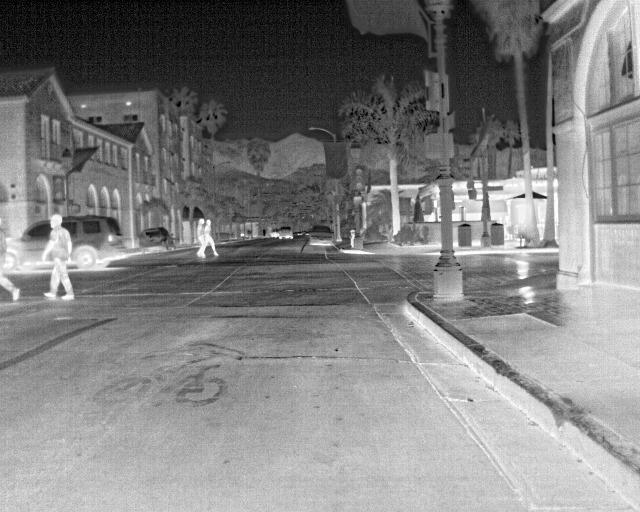bicycle: (64, 217, 125, 272), (0, 217, 49, 270), (137, 226, 175, 254), (308, 222, 337, 249), (280, 226, 295, 243)
empty: (40, 214, 77, 301), (198, 219, 220, 261), (193, 217, 206, 255)
